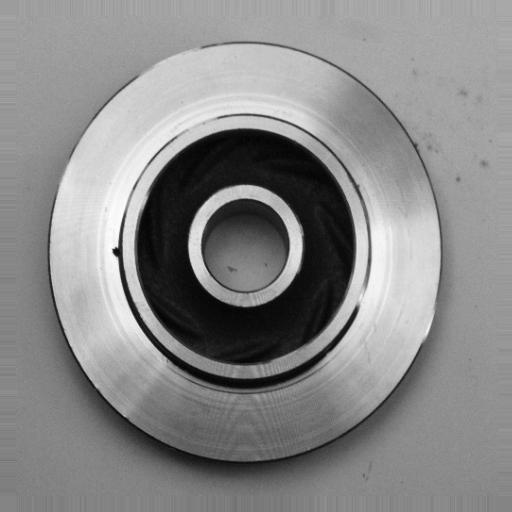crack: (103, 239, 128, 270)
unpolished_casting: (45, 41, 446, 470)
